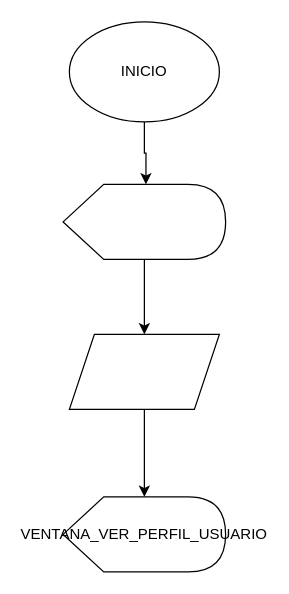
Image size: 289x594. Some labels were removed from this diagram. The centre of each missing label's shape, as x and y in pixels:
"VENTANA_PRINCIPAL_USUARIO" belongs at [144,221].
"VER PERFIL" belongs at [143,371].
